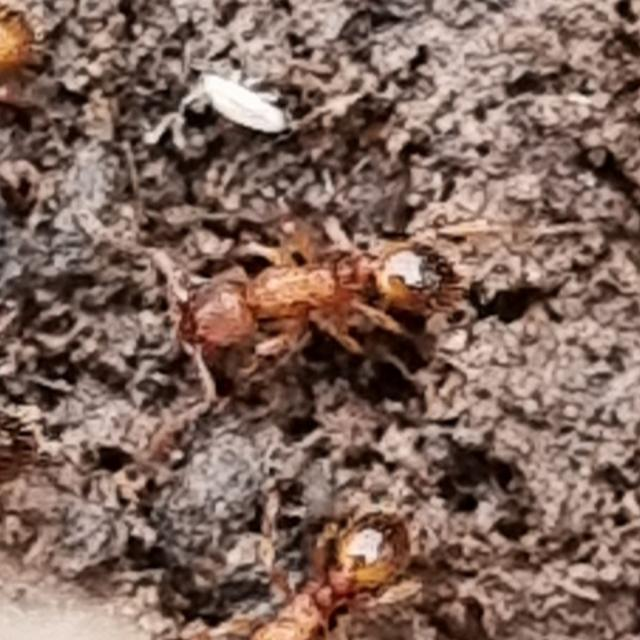Myrmica: (142, 192, 476, 392), (226, 481, 439, 639)
